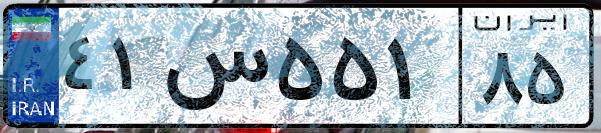1: (385, 28, 445, 110), (110, 28, 158, 98)
4: (57, 26, 110, 100)
5: (270, 28, 330, 110), (330, 28, 385, 110), (525, 38, 570, 115)
8: (475, 38, 525, 113)
س: (158, 20, 270, 120)
